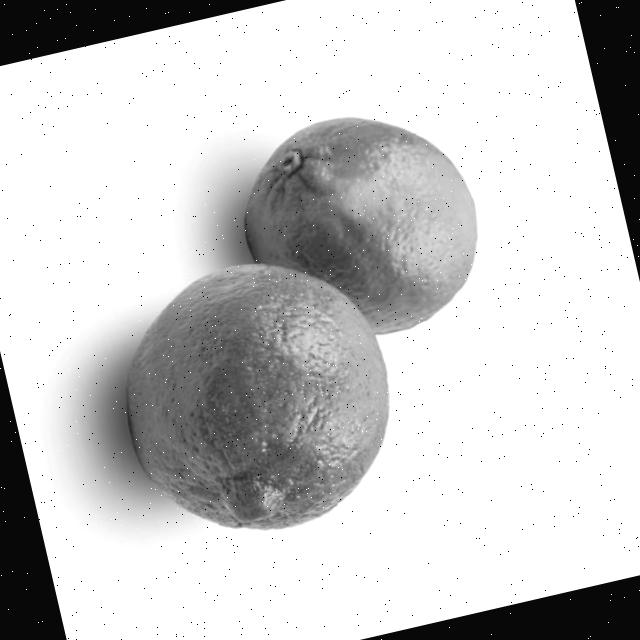Unripe: (97, 238, 416, 559), (220, 90, 497, 362)
